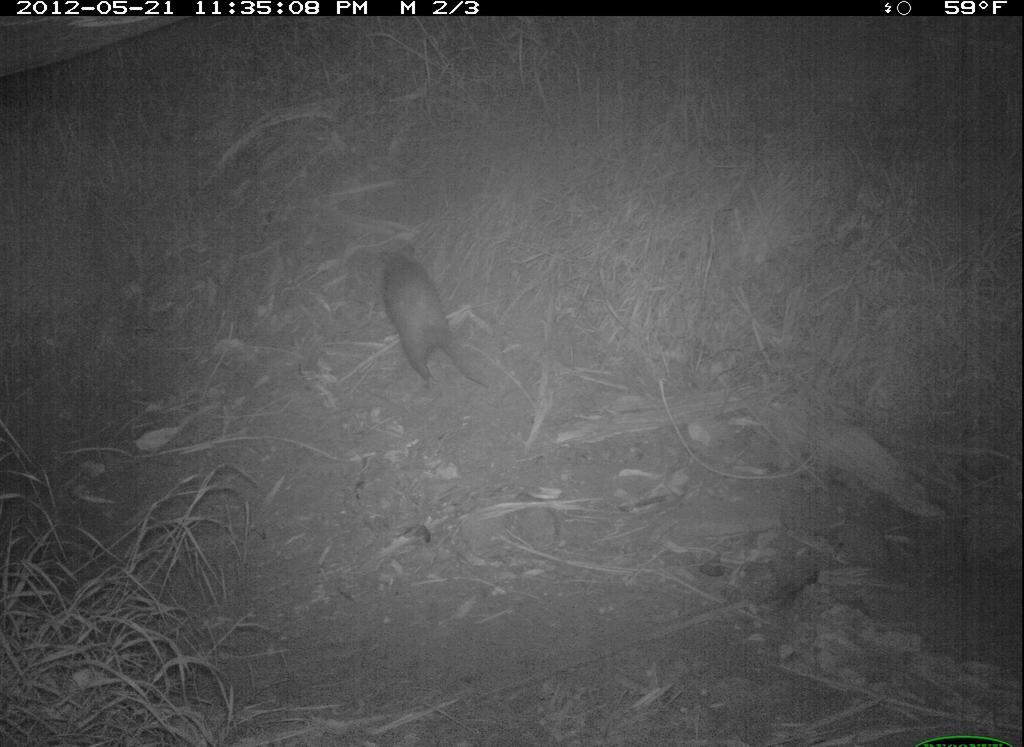opossum: (373, 240, 493, 405)
